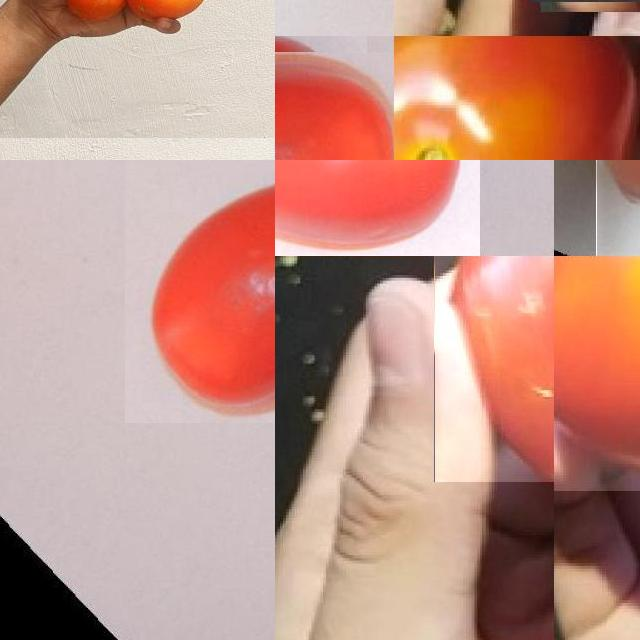Fresh Tomato: (125, 160, 275, 423), (394, 36, 640, 160), (554, 256, 640, 490), (275, 160, 480, 256), (275, 36, 389, 160)
Rotten Tomato: (434, 256, 554, 481)
